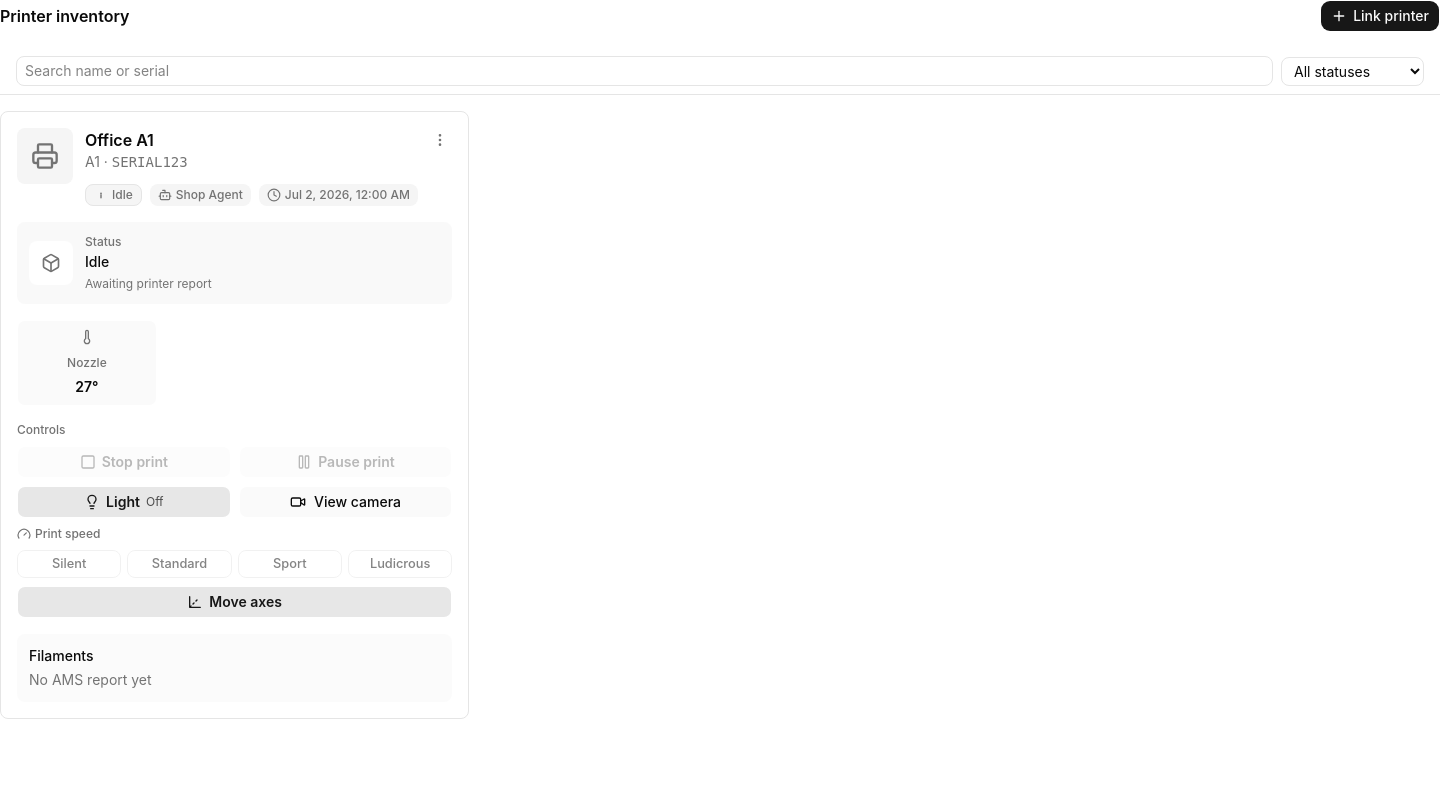
Test: PrinterInventory › opens a single-nozzle temperature menu with preset controls
This screenshot has width=1440, height=810.
Step 1. Click the button with aria-label "Set nozzle temperature" → click(87, 363), box [17,320,157,406]
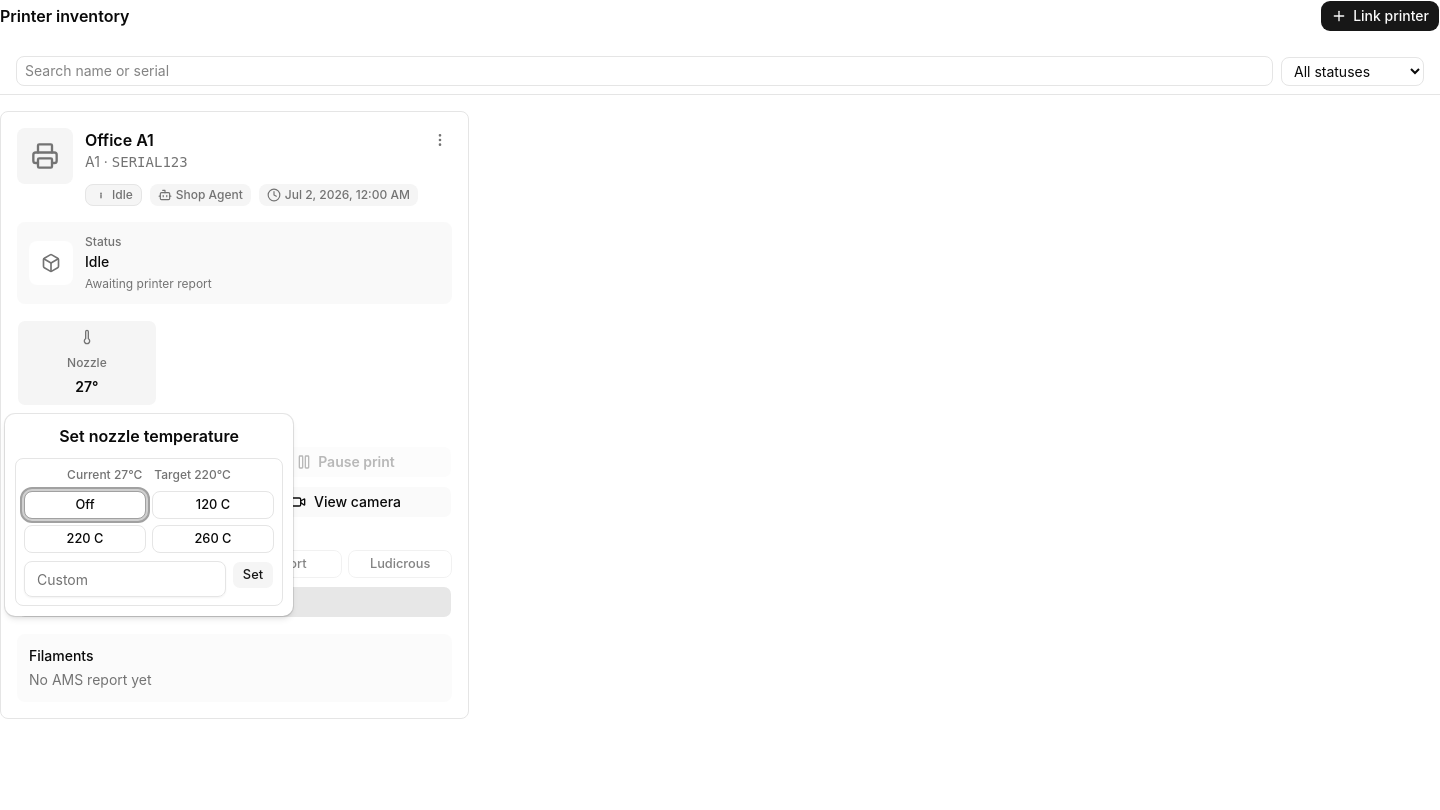
Expected: the heading "Set nozzle temperature" is shown, [59,426,239,446]
Expected: the text "Current 27°C" is shown, [67,467,142,483]
Expected: the text "Target 220°C" is shown, [154,467,231,483]
